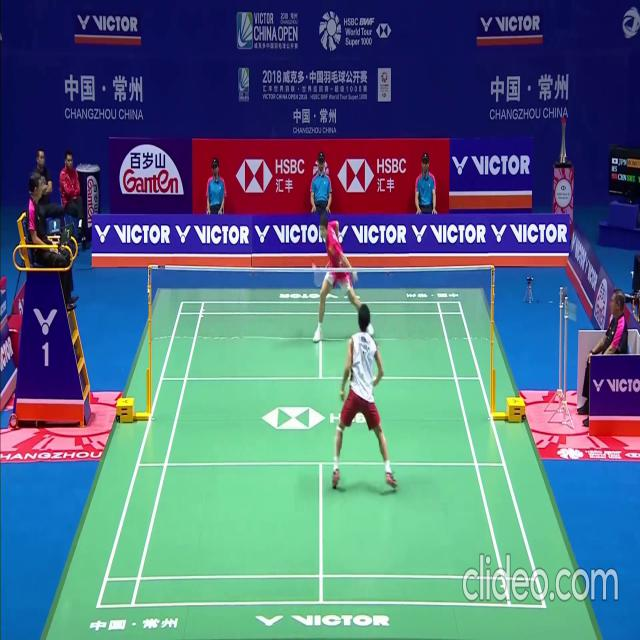Shuttlecock: (310, 261, 315, 268)
